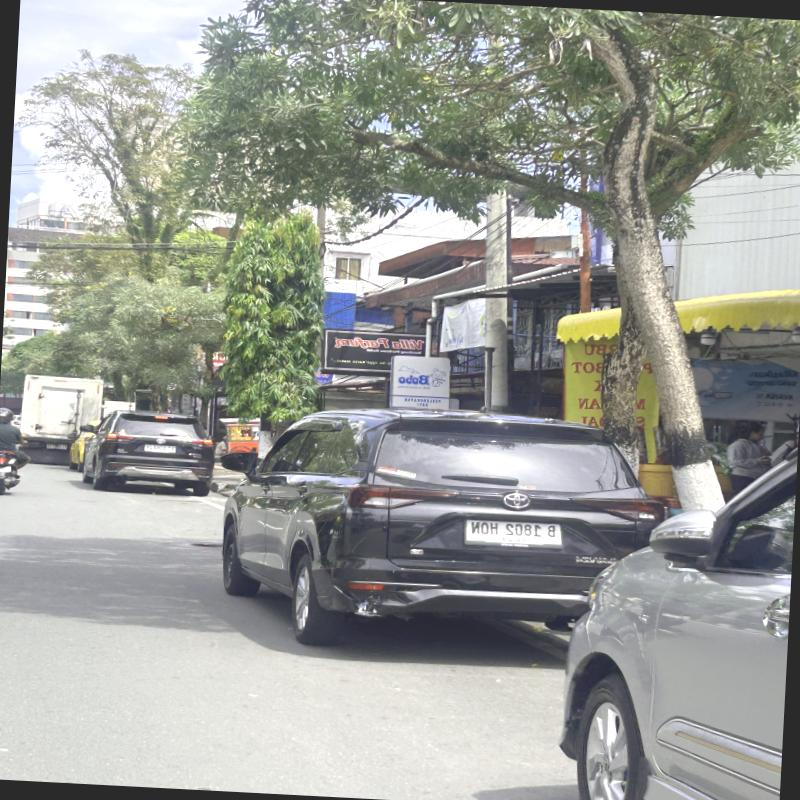license plate on a car: (466, 520, 565, 547), (144, 444, 176, 453), (47, 444, 67, 449)
